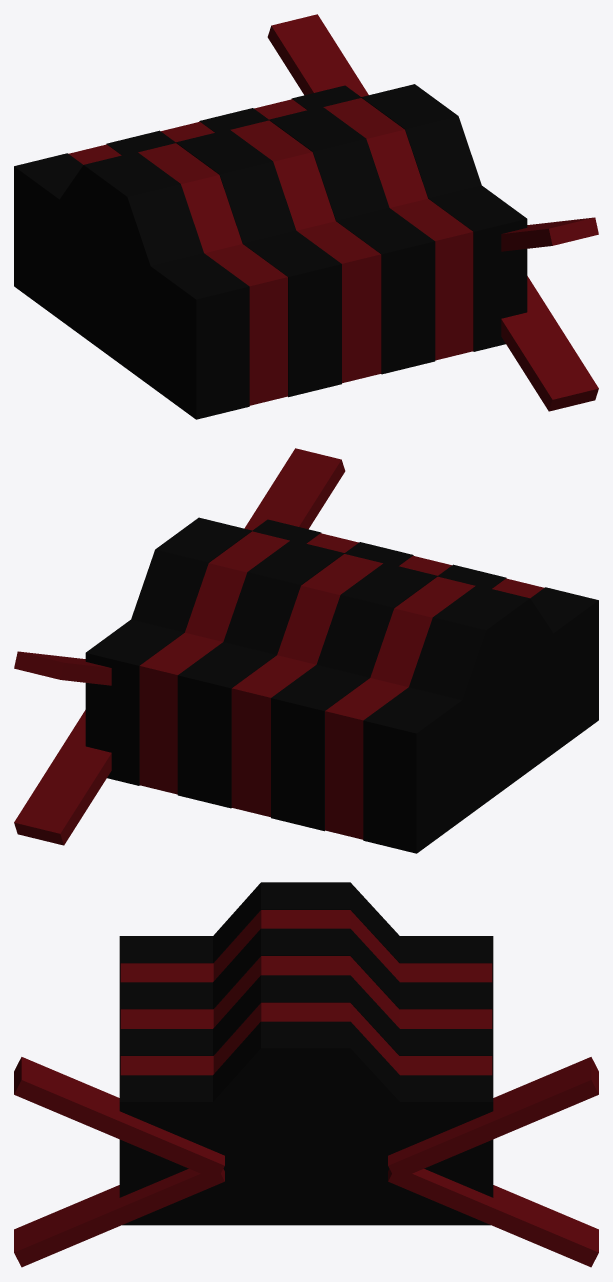
The model's file is player.obj.
The picture shows the model from 3 angles, top to bottom: view 1: azimuth 30°, elevation 25°; view 2: azimuth 150°, elevation 25°; view 3: azimuth 270°, elevation 25°; orthographic projection. The views are drawn at different scales.
Parts seen in each view (by area): view 1: Cube.007, Cube, Cube.006, Cube.008, Cube.005, Cube.003, Cube.001, Cube.004; view 2: Cube.007, Cube, Cube.006, Cube.008, Cube.005, Cube.002, Cube.004, Cube.001; view 3: Cube.005, Cube, Cube.008, Cube.007, Cube.006, Cube.001, Cube.004, Cube.003, Cube.002.
Part boxes in pixels (left/top/right/bottom): Cube.007: left=14, top=152, right=249, bottom=419; Cube: left=68, top=98, right=473, bottom=405; Cube.006: left=199, top=106, right=435, bottom=374; Cube.008: left=106, top=129, right=341, bottom=397; Cube.005: left=291, top=84, right=527, bottom=351; Cube.003: left=501, top=276, right=598, bottom=411; Cube.001: left=267, top=14, right=368, bottom=96; Cube.004: left=501, top=217, right=598, bottom=251; Cube.007: left=363, top=585, right=598, bottom=853; Cube: left=139, top=531, right=544, bottom=839; Cube.006: left=177, top=540, right=413, bottom=808; Cube.008: left=271, top=563, right=506, bottom=831; Cube.005: left=85, top=517, right=321, bottom=785; Cube.002: left=14, top=710, right=111, bottom=845; Cube.004: left=244, top=448, right=345, bottom=530; Cube.001: left=14, top=651, right=111, bottom=685; Cube.005: left=119, top=1021, right=493, bottom=1225; Cube: left=120, top=910, right=492, bottom=1075; Cube.008: left=119, top=928, right=493, bottom=1028; Cube.007: left=119, top=882, right=493, bottom=982; Cube.006: left=119, top=975, right=493, bottom=1075; Cube.001: left=388, top=1057, right=598, bottom=1180; Cube.004: left=14, top=1057, right=224, bottom=1178; Cube.003: left=14, top=1167, right=224, bottom=1267; Cube.002: left=388, top=1167, right=598, bottom=1267.
Size of the model in its own units: 0.4025 by 0.2231 by 0.5656.
